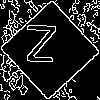Z: (25, 25, 57, 72)
